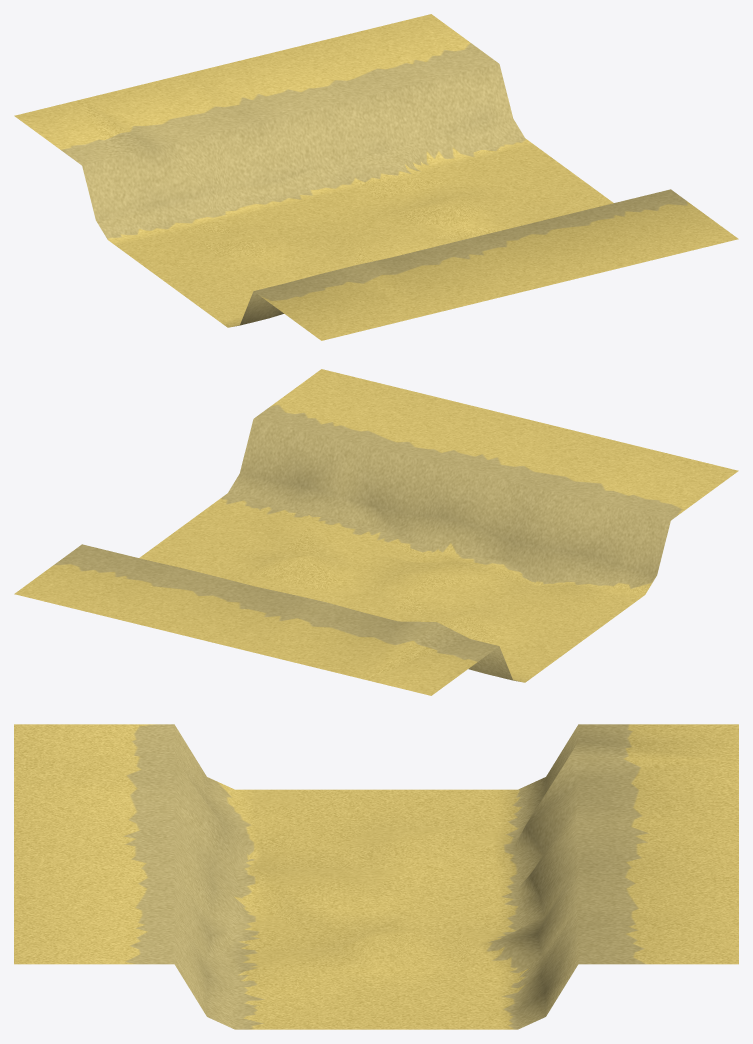
File: land.fbx
3 renders of one model, top to bottom at view 1: azimuth 30°, elevation 25°; view 2: azimuth 150°, elevation 25°; view 3: azimuth 270°, elevation 25°, orthographic. The views are drawn at different scales.
Visible parts, largest first — view 1: pPlane1; view 2: pPlane1; view 3: pPlane1.
Part boxes in pixels (<box>): pPlane1: <box>14,14,738,340</box>; pPlane1: <box>14,369,738,695</box>; pPlane1: <box>14,724,738,1029</box>.
Size of the model in its own units: 106 by 17.16 by 135.
